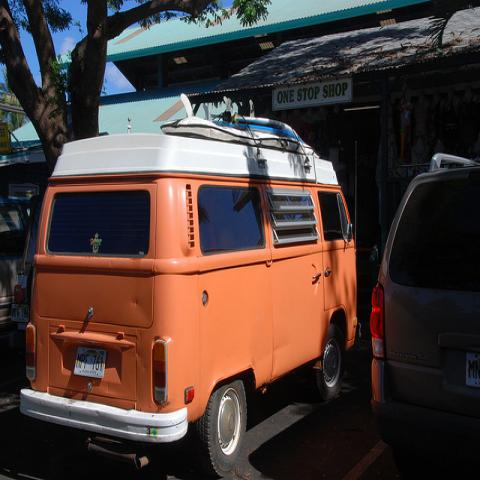bus: (21, 117, 362, 475)
car: (370, 151, 479, 479), (0, 197, 31, 326)
